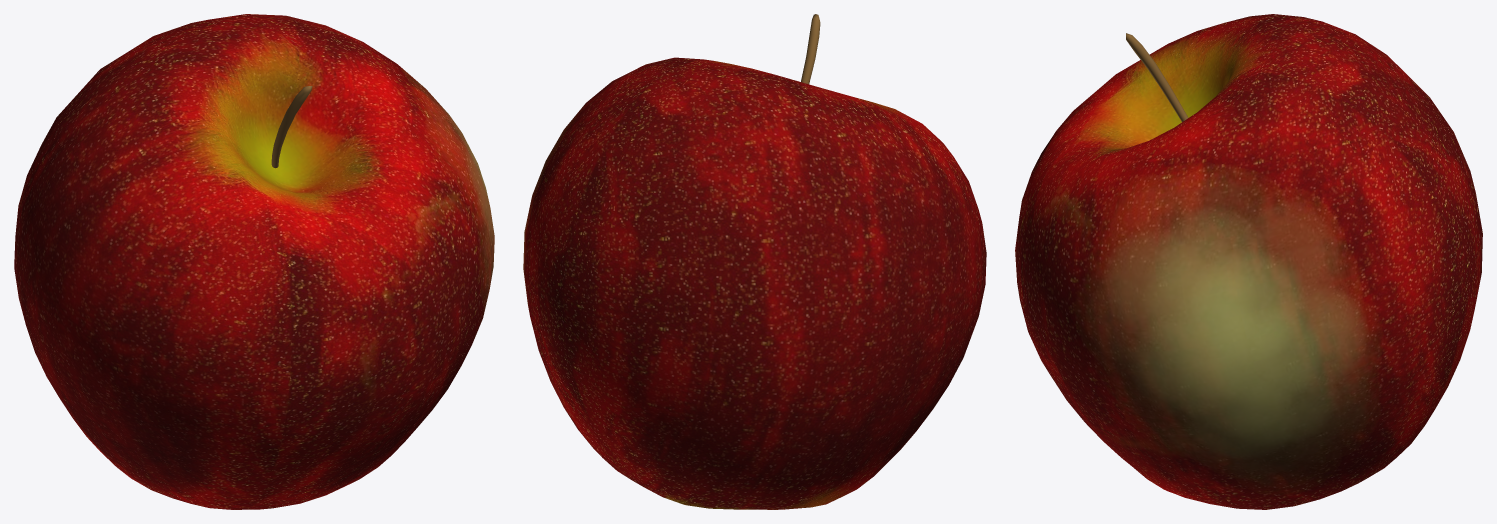
Rendered from apple.glb.
The picture shows the model from 3 angles, left to right: view 1: azimuth 30°, elevation 25°; view 2: azimuth 150°, elevation 25°; view 3: azimuth 270°, elevation 25°; orthographic projection. The views are drawn at different scales.
Visible parts, largest first — view 1: Apple; view 2: Apple; view 3: Apple.
Boxes of the visible parts, x1=… form: Apple: x1=14, y1=14, x2=494, y2=509; Apple: x1=523, y1=14, x2=986, y2=509; Apple: x1=1015, y1=14, x2=1482, y2=509.
Bounding box in the file's own units: 0.0642 × 0.0651 × 0.0625.
1 material, 1 textured.
